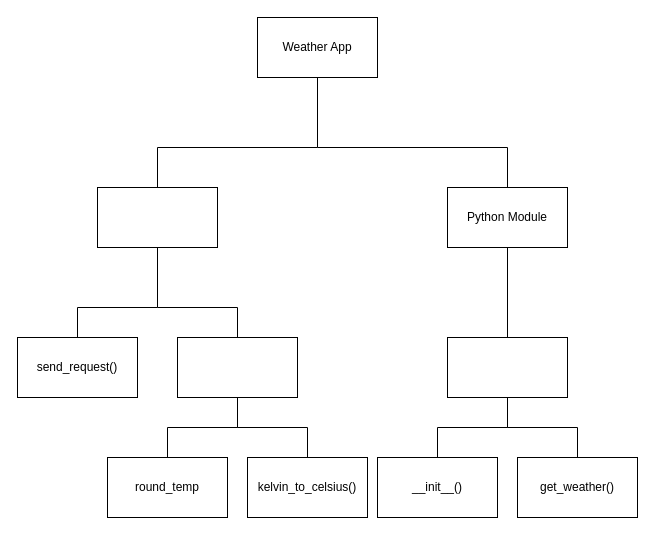
This 655x535 diagram has some shape labels left out. Each missing label, with the box of its shape:
format_temps(): (176, 336, 298, 398)
GUI: (446, 336, 568, 398)
Rust Module: (96, 186, 218, 248)
